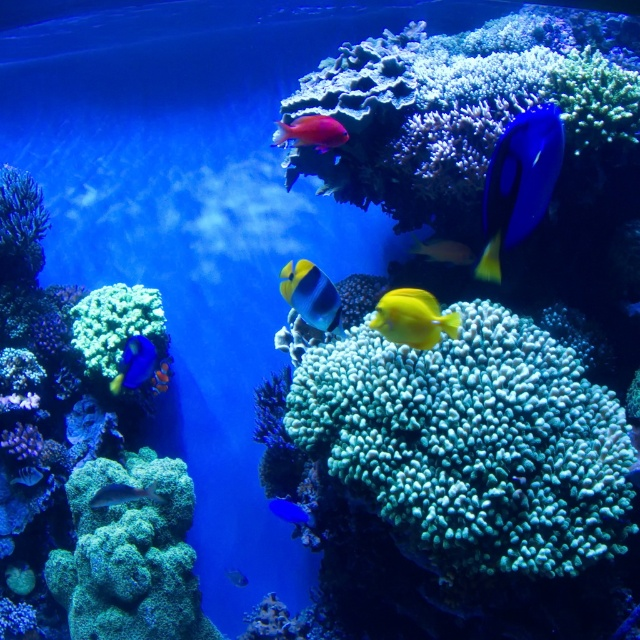Fish: (476, 101, 565, 284), (367, 288, 461, 350), (278, 259, 347, 340), (106, 334, 158, 398), (270, 113, 350, 153), (225, 568, 249, 588)
